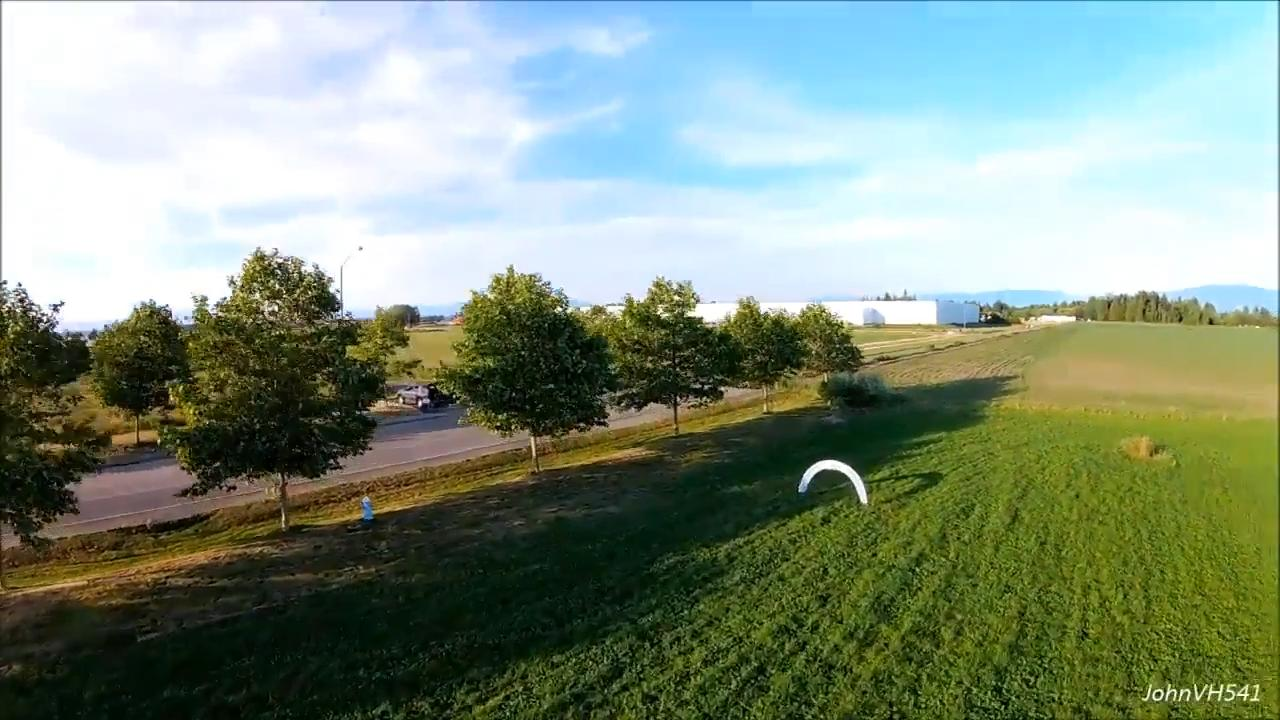gate: (797, 458, 869, 508)
